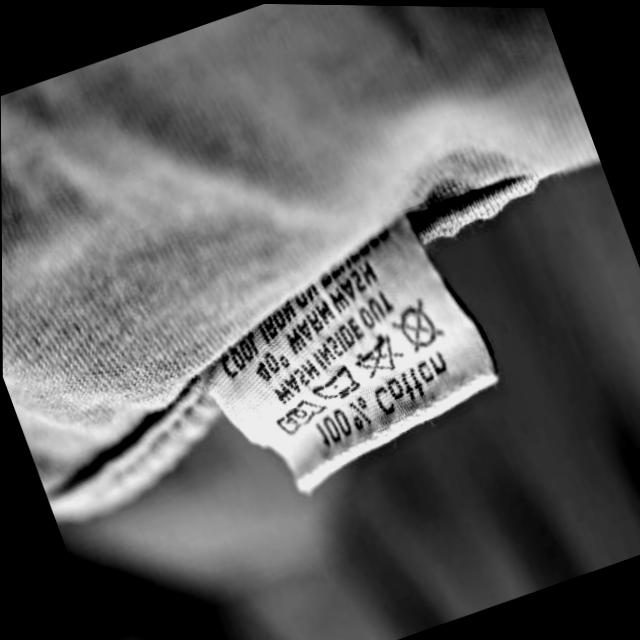40C: (279, 397, 327, 436)
DN_bleach: (356, 333, 400, 379)
DN_dry_clean: (398, 300, 448, 355)
iron_low: (316, 360, 363, 406)
